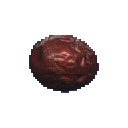gd: (15, 22, 121, 115)
